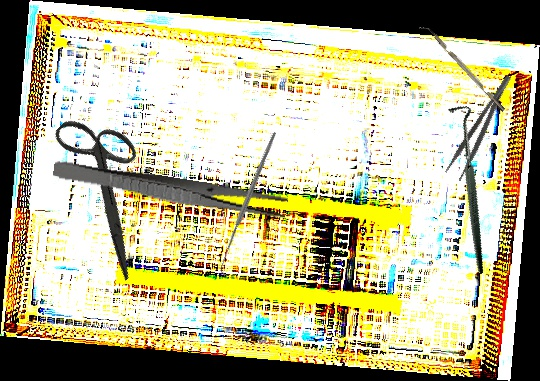Chopper: (418, 20, 506, 117)
Dressing Forceps: (51, 158, 289, 221), (443, 73, 522, 182)
Hook Surgical: (395, 100, 539, 275), (172, 131, 327, 277)
Iris Scissors: (12, 98, 199, 282)
